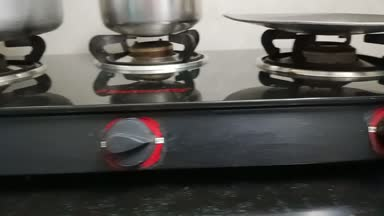flame_gas_off: (102, 26, 187, 177)
